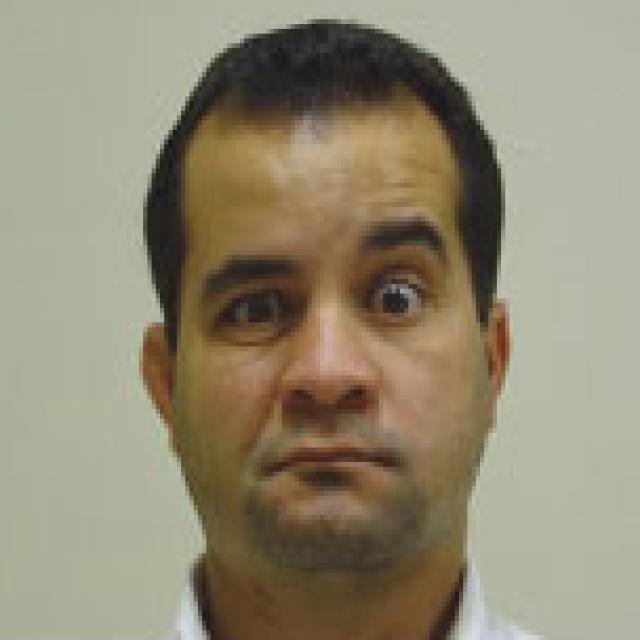stroke_face: (178, 52, 480, 610)
